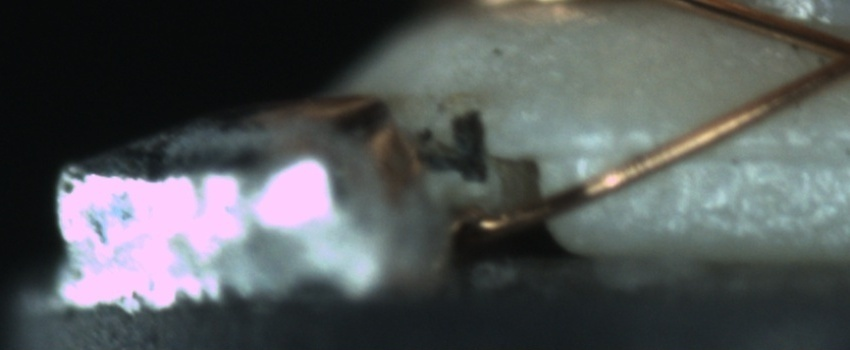CL: (803, 25, 850, 91)
DL: (564, 112, 850, 184)
